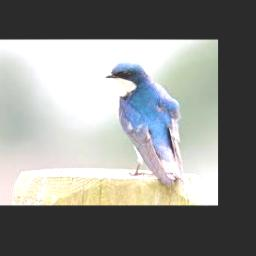Swallow: (106, 61, 183, 187)
